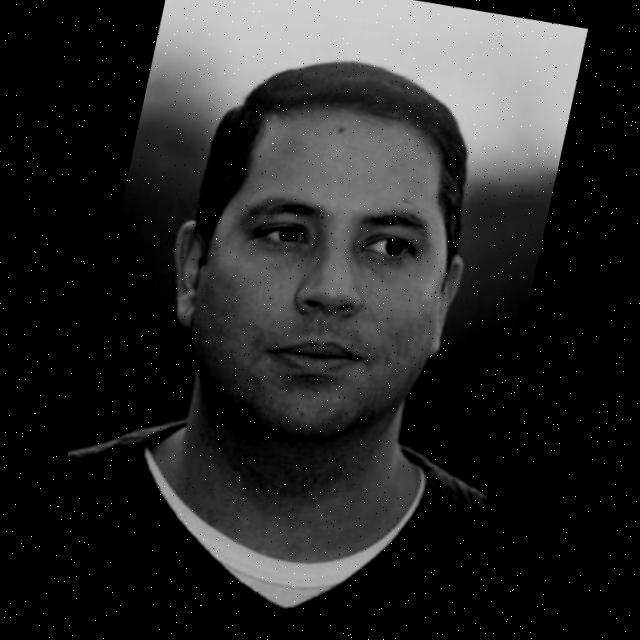face: (153, 53, 502, 468)
